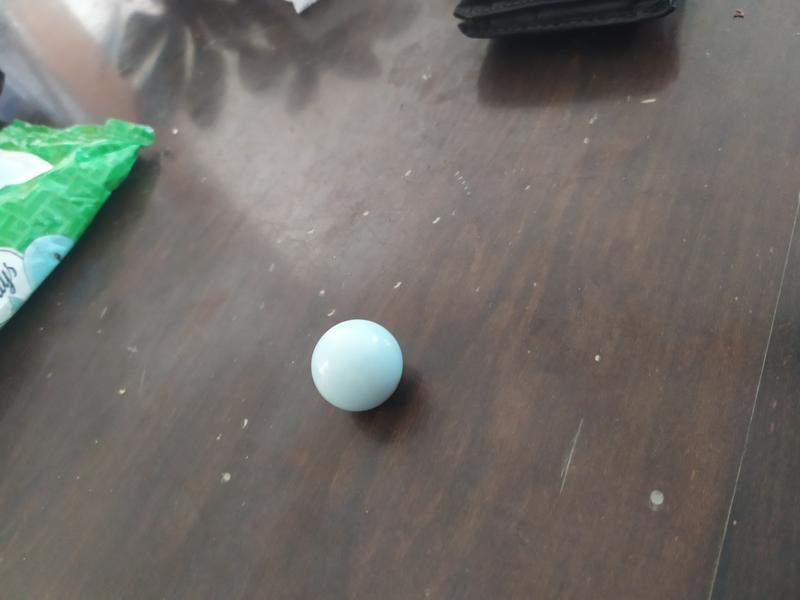Warning: (307, 315, 409, 416)
